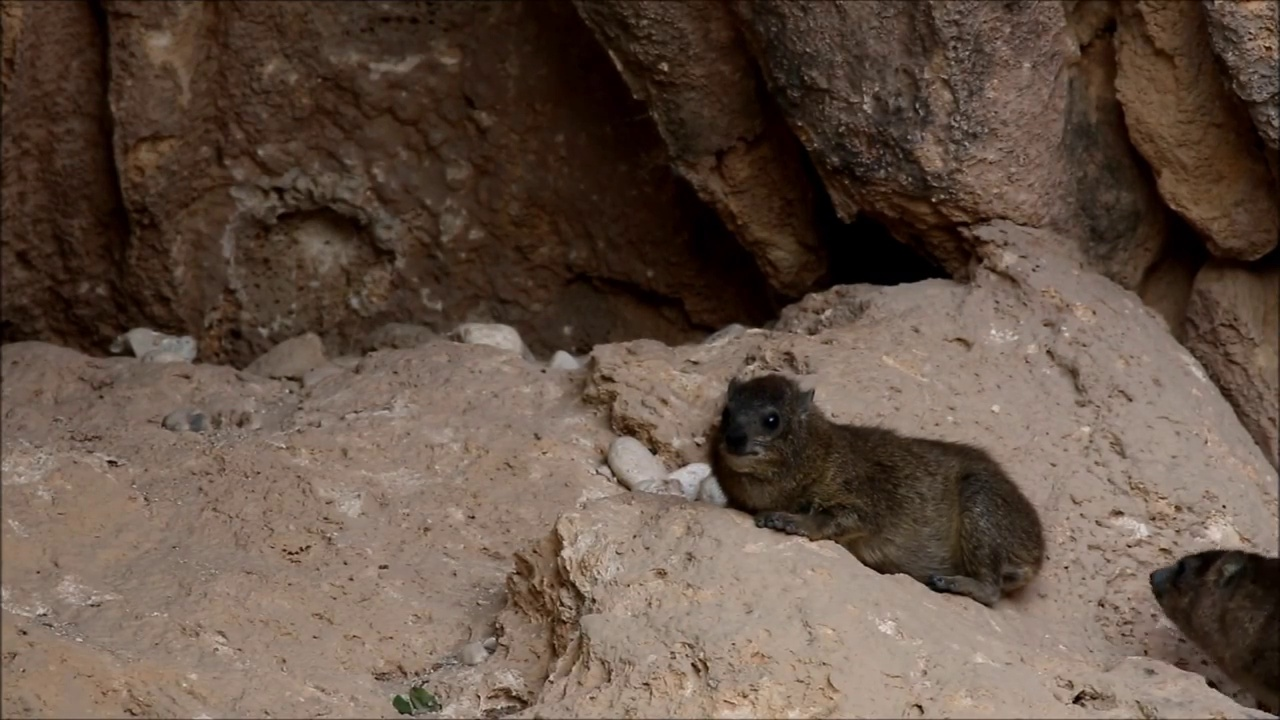Rock Hyrex: (709, 375, 1045, 607), (1149, 549, 1280, 714)
